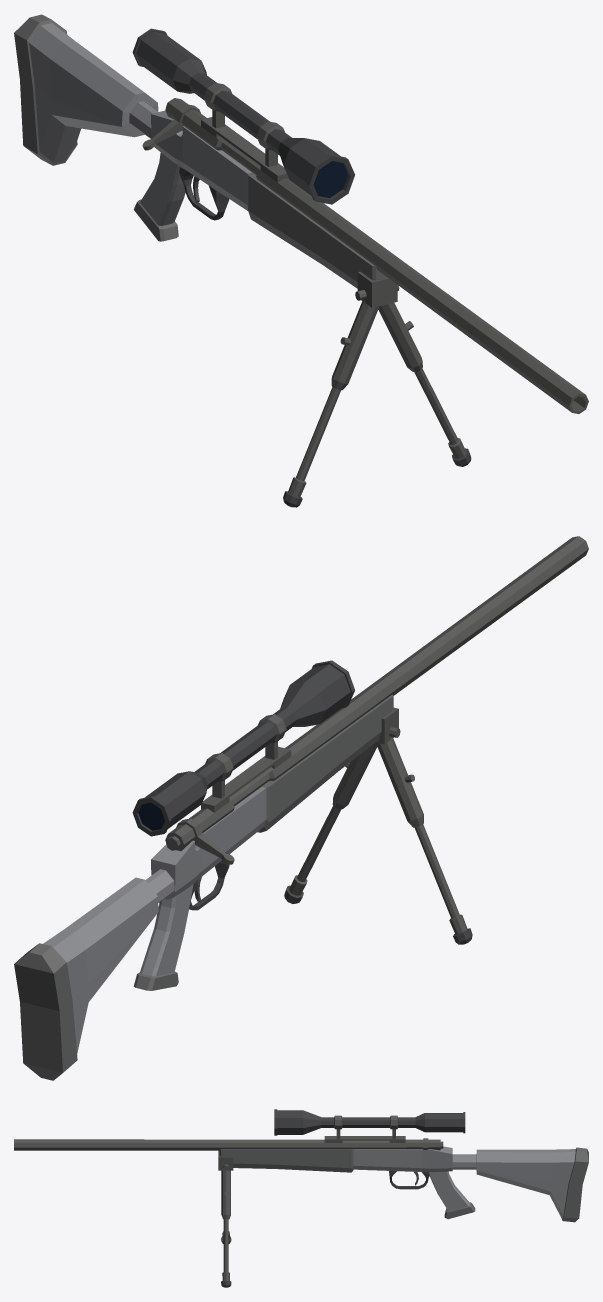
Rendered from sniper_5.glb.
3 views of the same model, one above another, from view 1: azimuth 30°, elevation 25°; view 2: azimuth 150°, elevation 25°; view 3: azimuth 270°, elevation 25° (orthographic). The views are drawn at different scales.
Parts seen in each view (by area): view 1: sniper_5; view 2: sniper_5; view 3: sniper_5.
Boxes of the visible parts, box(x1,y1,x2,y2) form: sniper_5: box(14, 14, 588, 507); sniper_5: box(14, 536, 588, 1080); sniper_5: box(14, 1109, 588, 1287).
Bounding box in the file's own units: 0.202 × 0.3074 × 1.03.
